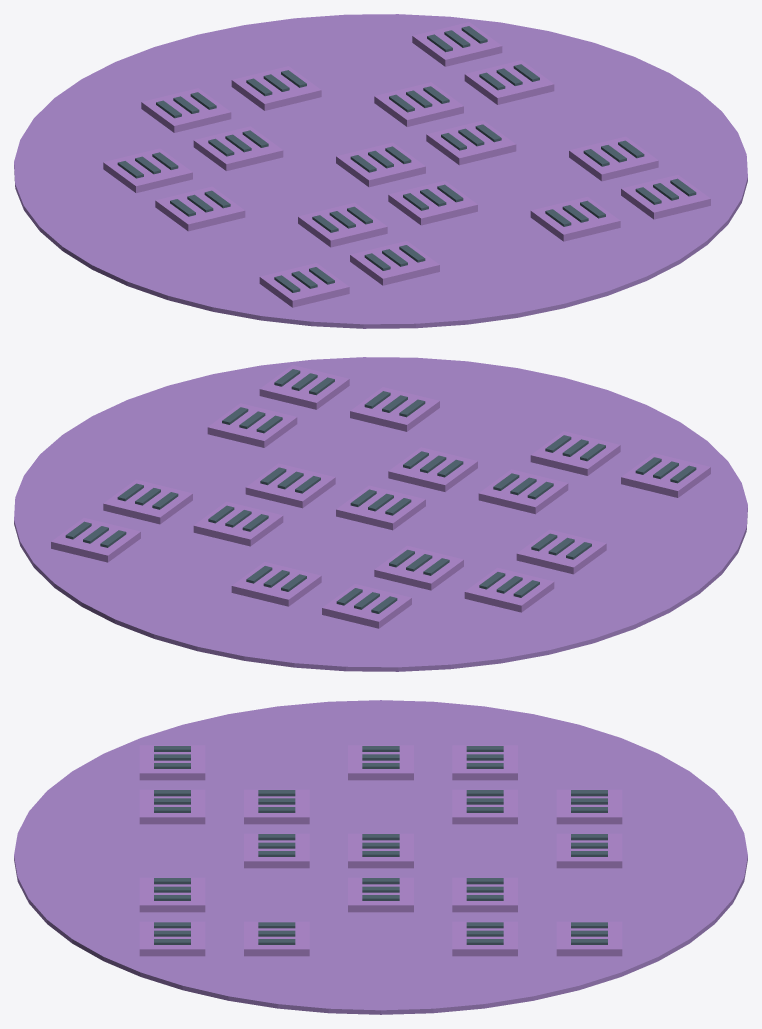
The model's file is 25_L75_DevelopedPhotoresistImplantMask.glb.
The picture shows the model from 3 angles, top to bottom: view 1: azimuth 30°, elevation 25°; view 2: azimuth 150°, elevation 25°; view 3: azimuth 270°, elevation 25°; orthographic projection.
Visible parts, largest first — view 1: DevelopedPhotoresistImplantMask_Node_0000, DevelopedPhotoresistImplantMask_Node_0017, DevelopedPhotoresistImplantMask_Node_0013, DevelopedPhotoresistImplantMask_Node_0049, DevelopedPhotoresistImplantMask_Node_0053, DevelopedPhotoresistImplantMask_Node_0057, DevelopedPhotoresistImplantMask_Node_0005, DevelopedPhotoresistImplantMask_Node_0009, DevelopedPhotoresistImplantMask_Node_0029, DevelopedPhotoresistImplantMask_Node_0045, DevelopedPhotoresistImplantMask_Node_0033, DevelopedPhotoresistImplantMask_Node_0037 (+6 smaller); view 2: DevelopedPhotoresistImplantMask_Node_0000, DevelopedPhotoresistImplantMask_Node_0041, DevelopedPhotoresistImplantMask_Node_0021, DevelopedPhotoresistImplantMask_Node_0025, DevelopedPhotoresistImplantMask_Node_0001, DevelopedPhotoresistImplantMask_Node_0061, DevelopedPhotoresistImplantMask_Node_0065, DevelopedPhotoresistImplantMask_Node_0005, DevelopedPhotoresistImplantMask_Node_0029, DevelopedPhotoresistImplantMask_Node_0009, DevelopedPhotoresistImplantMask_Node_0045, DevelopedPhotoresistImplantMask_Node_0049 (+6 smaller); view 3: DevelopedPhotoresistImplantMask_Node_0000, DevelopedPhotoresistImplantMask_Node_0053, DevelopedPhotoresistImplantMask_Node_0065, DevelopedPhotoresistImplantMask_Node_0057, DevelopedPhotoresistImplantMask_Node_0061, DevelopedPhotoresistImplantMask_Node_0009, DevelopedPhotoresistImplantMask_Node_0013, DevelopedPhotoresistImplantMask_Node_0025, DevelopedPhotoresistImplantMask_Node_0029, DevelopedPhotoresistImplantMask_Node_0049, DevelopedPhotoresistImplantMask_Node_0001, DevelopedPhotoresistImplantMask_Node_0005 (+6 smaller).
Boxes of the visible parts, x1=… form: DevelopedPhotoresistImplantMask_Node_0000: x1=14, y1=14, x2=747, y2=328; DevelopedPhotoresistImplantMask_Node_0017: x1=193, y1=126, x2=283, y2=171; DevelopedPhotoresistImplantMask_Node_0013: x1=141, y1=88, x2=231, y2=132; DevelopedPhotoresistImplantMask_Node_0049: x1=530, y1=197, x2=620, y2=241; DevelopedPhotoresistImplantMask_Node_0053: x1=412, y1=22, x2=502, y2=66; DevelopedPhotoresistImplantMask_Node_0057: x1=464, y1=60, x2=554, y2=104; DevelopedPhotoresistImplantMask_Node_0005: x1=155, y1=186, x2=245, y2=231; DevelopedPhotoresistImplantMask_Node_0009: x1=259, y1=263, x2=349, y2=307; DevelopedPhotoresistImplantMask_Node_0029: x1=231, y1=66, x2=321, y2=110; DevelopedPhotoresistImplantMask_Node_0045: x1=426, y1=120, x2=516, y2=165; DevelopedPhotoresistImplantMask_Node_0033: x1=336, y1=142, x2=425, y2=187; DevelopedPhotoresistImplantMask_Node_0037: x1=388, y1=180, x2=477, y2=225; DevelopedPhotoresistImplantMask_Node_0000: x1=14, y1=357, x2=747, y2=671; DevelopedPhotoresistImplantMask_Node_0041: x1=193, y1=501, x2=283, y2=546; DevelopedPhotoresistImplantMask_Node_0021: x1=478, y1=469, x2=568, y2=514; DevelopedPhotoresistImplantMask_Node_0025: x1=530, y1=431, x2=620, y2=475; DevelopedPhotoresistImplantMask_Node_0001: x1=464, y1=567, x2=554, y2=612; DevelopedPhotoresistImplantMask_Node_0061: x1=207, y1=403, x2=297, y2=447; DevelopedPhotoresistImplantMask_Node_0065: x1=259, y1=365, x2=349, y2=409; DevelopedPhotoresistImplantMask_Node_0005: x1=516, y1=529, x2=606, y2=574; DevelopedPhotoresistImplantMask_Node_0029: x1=231, y1=562, x2=321, y2=606; DevelopedPhotoresistImplantMask_Node_0009: x1=621, y1=453, x2=710, y2=497; DevelopedPhotoresistImplantMask_Node_0045: x1=245, y1=463, x2=335, y2=508; DevelopedPhotoresistImplantMask_Node_0049: x1=350, y1=387, x2=439, y2=431; DevelopedPhotoresistImplantMask_Node_0000: x1=14, y1=700, x2=747, y2=1014; DevelopedPhotoresistImplantMask_Node_0053: x1=556, y1=921, x2=622, y2=956; DevelopedPhotoresistImplantMask_Node_0065: x1=139, y1=921, x2=205, y2=956; DevelopedPhotoresistImplantMask_Node_0057: x1=452, y1=921, x2=517, y2=956; DevelopedPhotoresistImplantMask_Node_0061: x1=244, y1=921, x2=309, y2=956; DevelopedPhotoresistImplantMask_Node_0009: x1=139, y1=745, x2=205, y2=780; DevelopedPhotoresistImplantMask_Node_0013: x1=556, y1=789, x2=622, y2=824; DevelopedPhotoresistImplantMask_Node_0025: x1=139, y1=789, x2=205, y2=824; DevelopedPhotoresistImplantMask_Node_0029: x1=556, y1=833, x2=622, y2=868; DevelopedPhotoresistImplantMask_Node_0049: x1=139, y1=877, x2=205, y2=912; DevelopedPhotoresistImplantMask_Node_0001: x1=452, y1=745, x2=517, y2=780; DevelopedPhotoresistImplantMask_Node_0005: x1=348, y1=745, x2=413, y2=780.
Size of the model in its own units: 1.62 by 0.0375 by 1.62.
